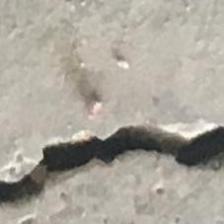Crack: (5, 104, 224, 224)
